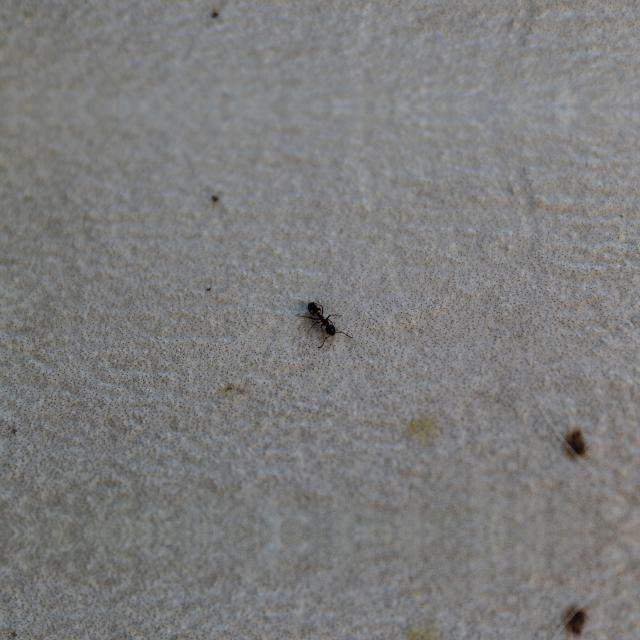Dolichoderus: (299, 294, 351, 340)
